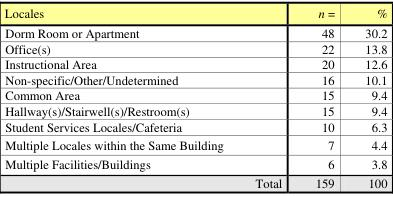table: (3, 3, 386, 190)
table column: (3, 3, 297, 190), (297, 3, 349, 190), (349, 3, 386, 190)
table column header: (3, 3, 386, 22)
table row: (3, 3, 386, 22), (3, 134, 386, 153), (3, 153, 386, 172), (3, 22, 386, 40), (3, 172, 386, 190), (3, 117, 386, 134), (3, 55, 386, 71), (3, 86, 386, 102), (3, 40, 386, 55), (3, 71, 386, 86), (3, 102, 386, 117)
